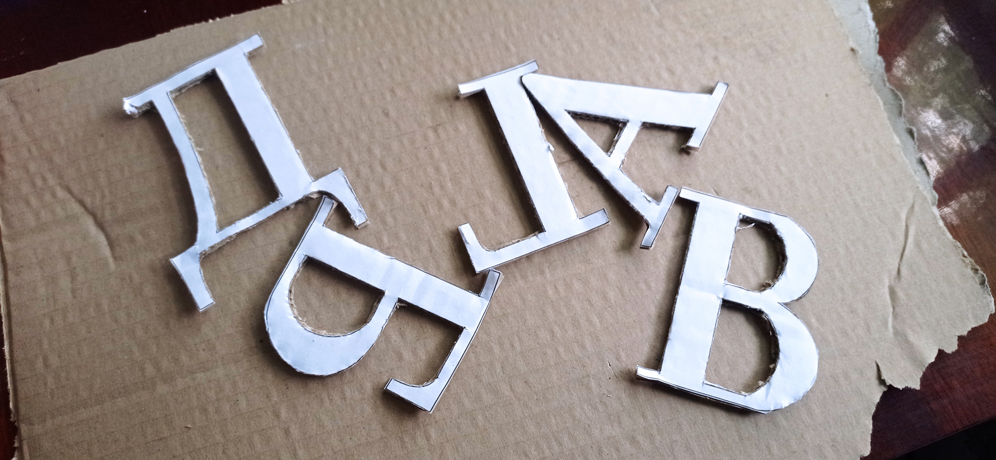a: (520, 70, 729, 252)
b: (263, 195, 504, 415)
d: (120, 33, 370, 316)
g: (455, 59, 611, 275)
v: (634, 185, 819, 416)
